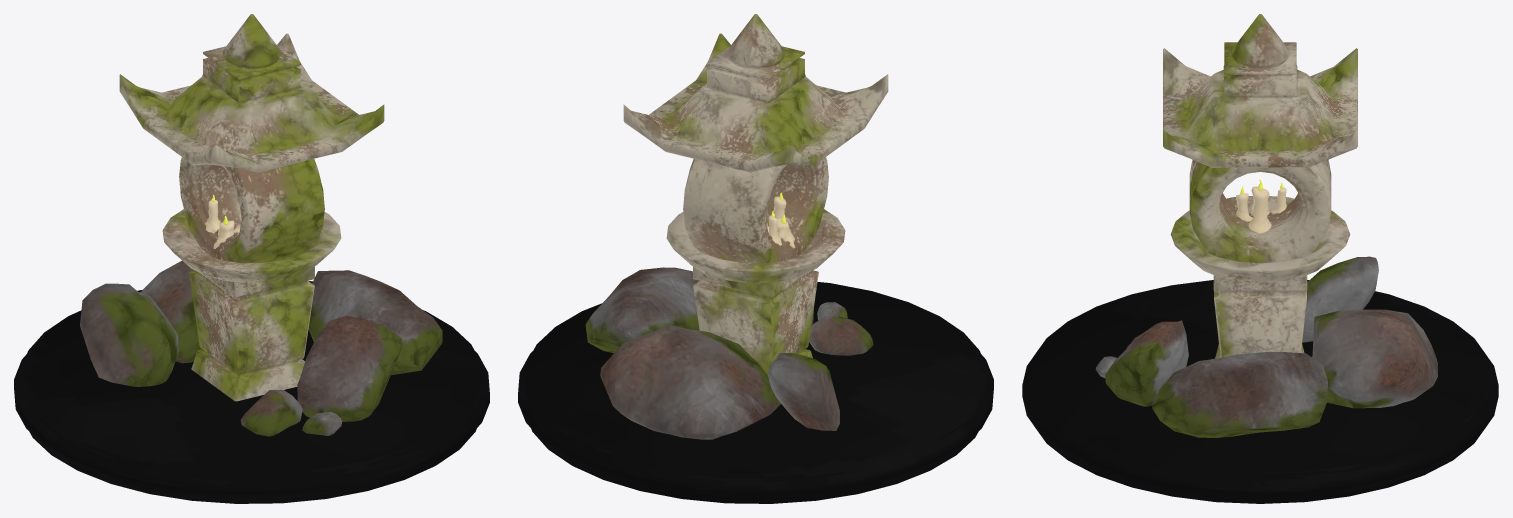
The model's file is lantern.glb.
3 renders of one model, left to right at view 1: azimuth 30°, elevation 25°; view 2: azimuth 150°, elevation 25°; view 3: azimuth 270°, elevation 25°, orthographic.
Visible parts, largest first — view 1: Additionals_UVGrid_0; view 2: Additionals_UVGrid_0; view 3: Additionals_UVGrid_0.
Boxes of the visible parts, bbox=[...] form: Additionals_UVGrid_0: bbox=[14, 14, 489, 503]; Additionals_UVGrid_0: bbox=[518, 14, 993, 503]; Additionals_UVGrid_0: bbox=[1022, 14, 1498, 503].
Bounding box in the file's own units: 970 × 879 × 970.
Materials: 1 (1 with a texture image).
